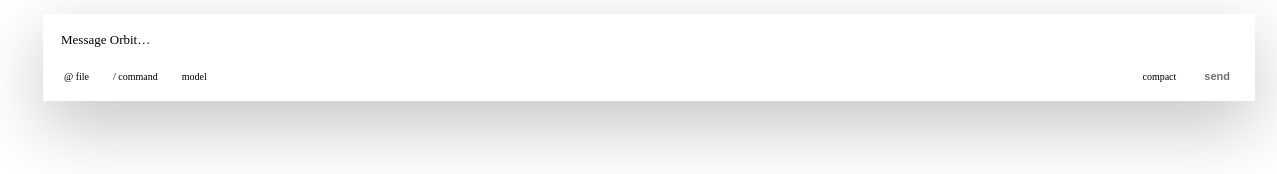
Test: InputBar › send button enabled when text present
Type "hello" into the text box with test id "message-input" at [649, 40], box top-left (61, 30), bottom-right (1237, 50)
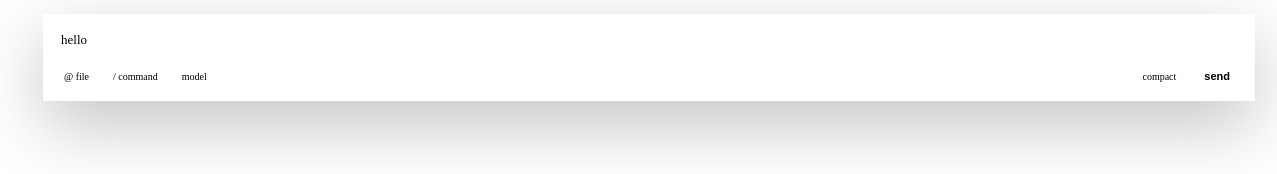
expect the button with test id "send-message-button" is enabled: met, box top-left (1191, 64), bottom-right (1243, 89)
